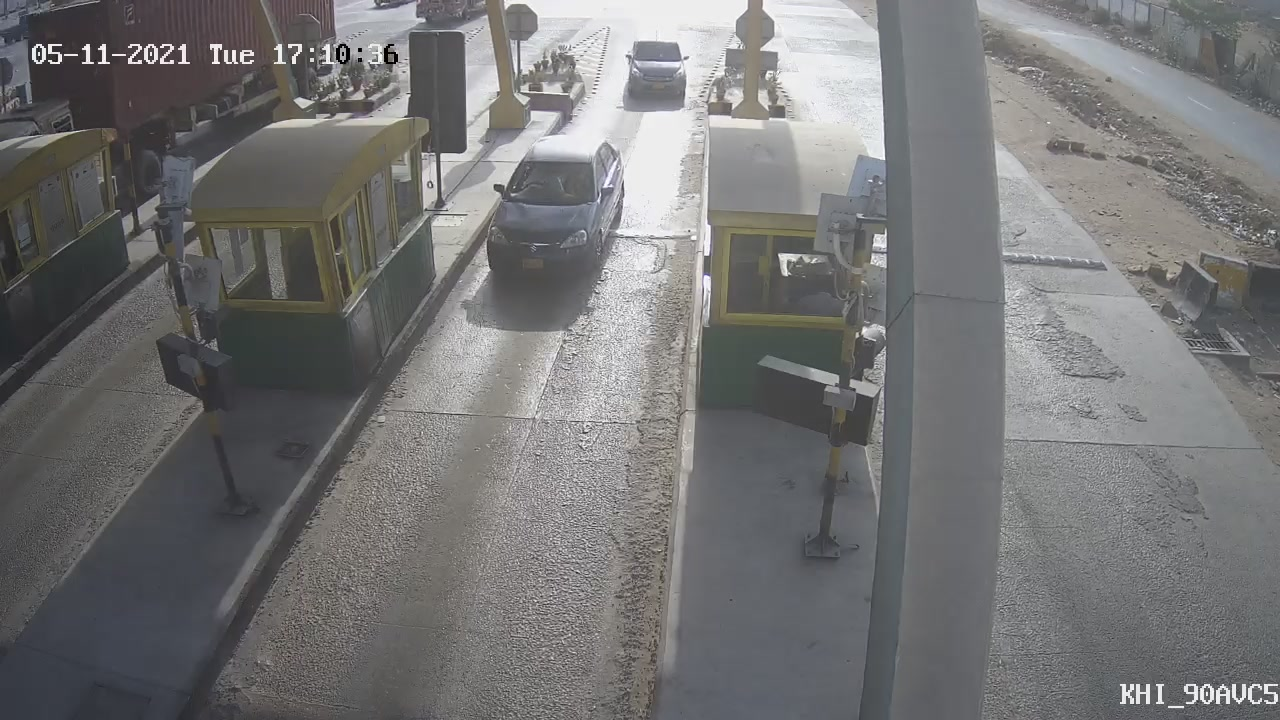F1: (465, 122, 643, 301)
